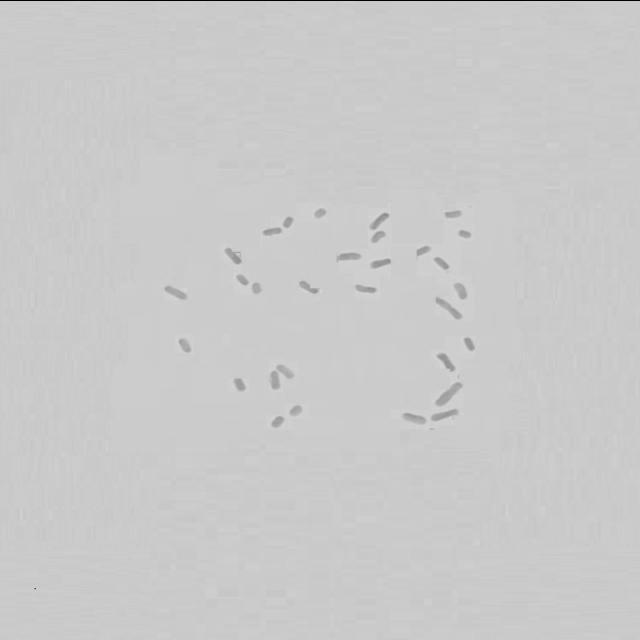E-coli: (436, 378, 463, 408), (273, 357, 301, 384), (433, 299, 461, 322), (159, 280, 189, 301), (367, 211, 393, 230), (221, 246, 245, 265), (296, 277, 318, 295), (401, 411, 429, 425), (441, 206, 469, 220), (336, 248, 366, 261), (368, 258, 396, 271), (351, 282, 381, 294), (266, 367, 281, 391), (174, 337, 196, 353), (431, 411, 463, 422), (438, 350, 452, 372), (233, 376, 249, 394), (432, 256, 450, 272), (259, 226, 283, 238), (454, 280, 468, 298), (414, 244, 434, 256), (250, 283, 266, 298), (311, 207, 329, 220), (269, 417, 285, 431), (461, 338, 477, 352), (369, 232, 391, 242), (456, 228, 474, 240), (234, 275, 250, 287), (282, 217, 297, 229), (290, 406, 306, 416)
